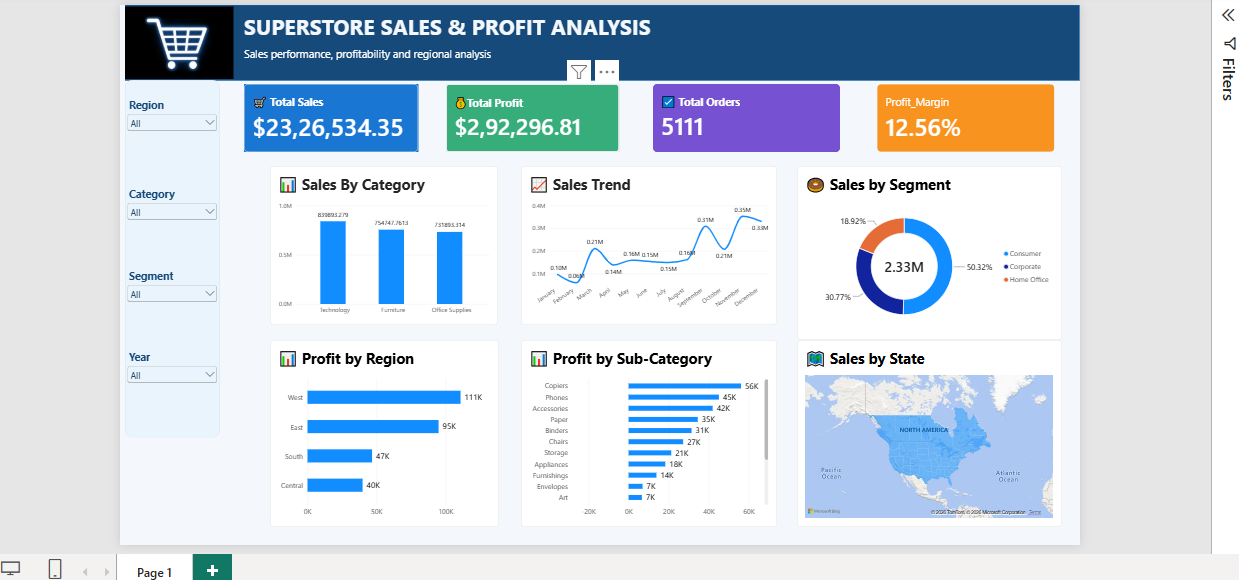

The dashboard page shown, as its layout file describes it:
{"tool":"powerbi","page":{"name":"Page 1","canvas":[1920,1080],"ordinal":0},"visuals":[{"type":"shape","box":[10.6,0,1909.1,150.9],"z":0},{"type":"textbox","box":[248.7,14.9,1671,136.1],"z":1000},{"type":"textbox","box":[248.7,82.9,1671,102],"z":2000},{"type":"image","box":[10.6,0,216.9,150.9],"z":3000},{"type":"shape","box":[10.6,150.9,190,715],"z":4000},{"type":"slicer","fields":{"Values":["Orders.Region"]},"box":[10.6,185,189.2,108.4],"z":5000},{"type":"slicer","fields":{"Values":["Orders.Category"]},"box":[10.6,361.4,189.2,106.3],"z":6000},{"type":"slicer","fields":{"Values":["Orders.Segment"]},"box":[10.6,525.1,189.2,114.8],"z":7000},{"type":"slicer","fields":{"Values":["Orders.Order Date.Variation.Date Hierarchy.Year"]},"box":[10.6,688.8,189.2,119.1],"z":8000},{"type":"cardVisual","title":"🛒Total Sales","fields":{"Data":["Orders.Total Sales"]},"box":[248.7,157.3,348.7,136.1],"z":9000},{"type":"cardVisual","fields":{"Data":["Orders.Total Profit"]},"box":[652.7,157.3,346.5,136.1],"z":10000},{"type":"cardVisual","fields":{"Data":["Orders.Total Orders"]},"box":[1065.1,157.3,374.2,136.1],"z":11000},{"type":"cardVisual","fields":{"Data":["Orders.Profit_Margin"]},"box":[1513.7,157.3,355,136.1],"z":12000},{"type":"clusteredColumnChart","title":"📊 Sales By Category","fields":{"Category":["Orders.Category"],"Y":["Sum(Orders.Sales)"]},"box":[300,322,456,318],"z":13000},{"type":"lineChart","title":"📈 Sales Trend","fields":{"Category":["Orders.Order Date.Variation.Date Hierarchy.Month"],"Y":["Sum(Orders.Sales)"]},"box":[802,322,512,318],"z":14000},{"type":"donutChart","title":"🍩 Sales by Segment","fields":{"Category":["Orders.Segment"],"Y":["Sum(Orders.Sales)"]},"box":[1354,322,530,348],"z":15000},{"type":"clusteredBarChart","title":"📊 Profit by Region","fields":{"Category":["Orders.Region"],"Y":["Sum(Orders.Profit)"]},"box":[300,670,458,374],"z":15001},{"type":"clusteredBarChart","title":"📊 Profit by Sub-Category","fields":{"Category":["Orders.Sub-Category"],"Y":["Sum(Orders.Profit)"]},"box":[802,670,512,374],"z":15002},{"type":"filledMap","title":"🗺️ Sales by State","fields":{"Category":["Orders.State/Province"]},"box":[1354,670,530,374],"z":15003}]}

Visuals, with their boxes in screenshot pixels (x1, y1, x2, y2):
shape: BBox(193, 0, 1205, 77)
textbox: BBox(319, 5, 1205, 77)
textbox: BBox(319, 41, 1205, 95)
image: BBox(193, 0, 308, 77)
shape: BBox(193, 77, 294, 456)
slicer - Orders.Region: BBox(193, 95, 293, 152)
slicer - Orders.Category: BBox(193, 188, 293, 245)
slicer - Orders.Segment: BBox(193, 275, 293, 336)
slicer - Orders.Order Date.Variation.Date Hierarchy.Year: BBox(193, 362, 293, 425)
"🛒Total Sales" cardVisual: BBox(319, 80, 504, 152)
cardVisual - Orders.Total Profit: BBox(533, 80, 717, 152)
cardVisual - Orders.Total Orders: BBox(752, 80, 950, 152)
cardVisual - Orders.Profit_Margin: BBox(990, 80, 1178, 152)
"📊 Sales By Category" clusteredColumnChart: BBox(346, 168, 588, 336)
"📈 Sales Trend" lineChart: BBox(612, 168, 884, 336)
"🍩 Sales by Segment" donutChart: BBox(905, 168, 1186, 352)
"📊 Profit by Region" clusteredBarChart: BBox(346, 352, 589, 550)
"📊 Profit by Sub-Category" clusteredBarChart: BBox(612, 352, 884, 550)
"🗺️ Sales by State" filledMap: BBox(905, 352, 1186, 550)
